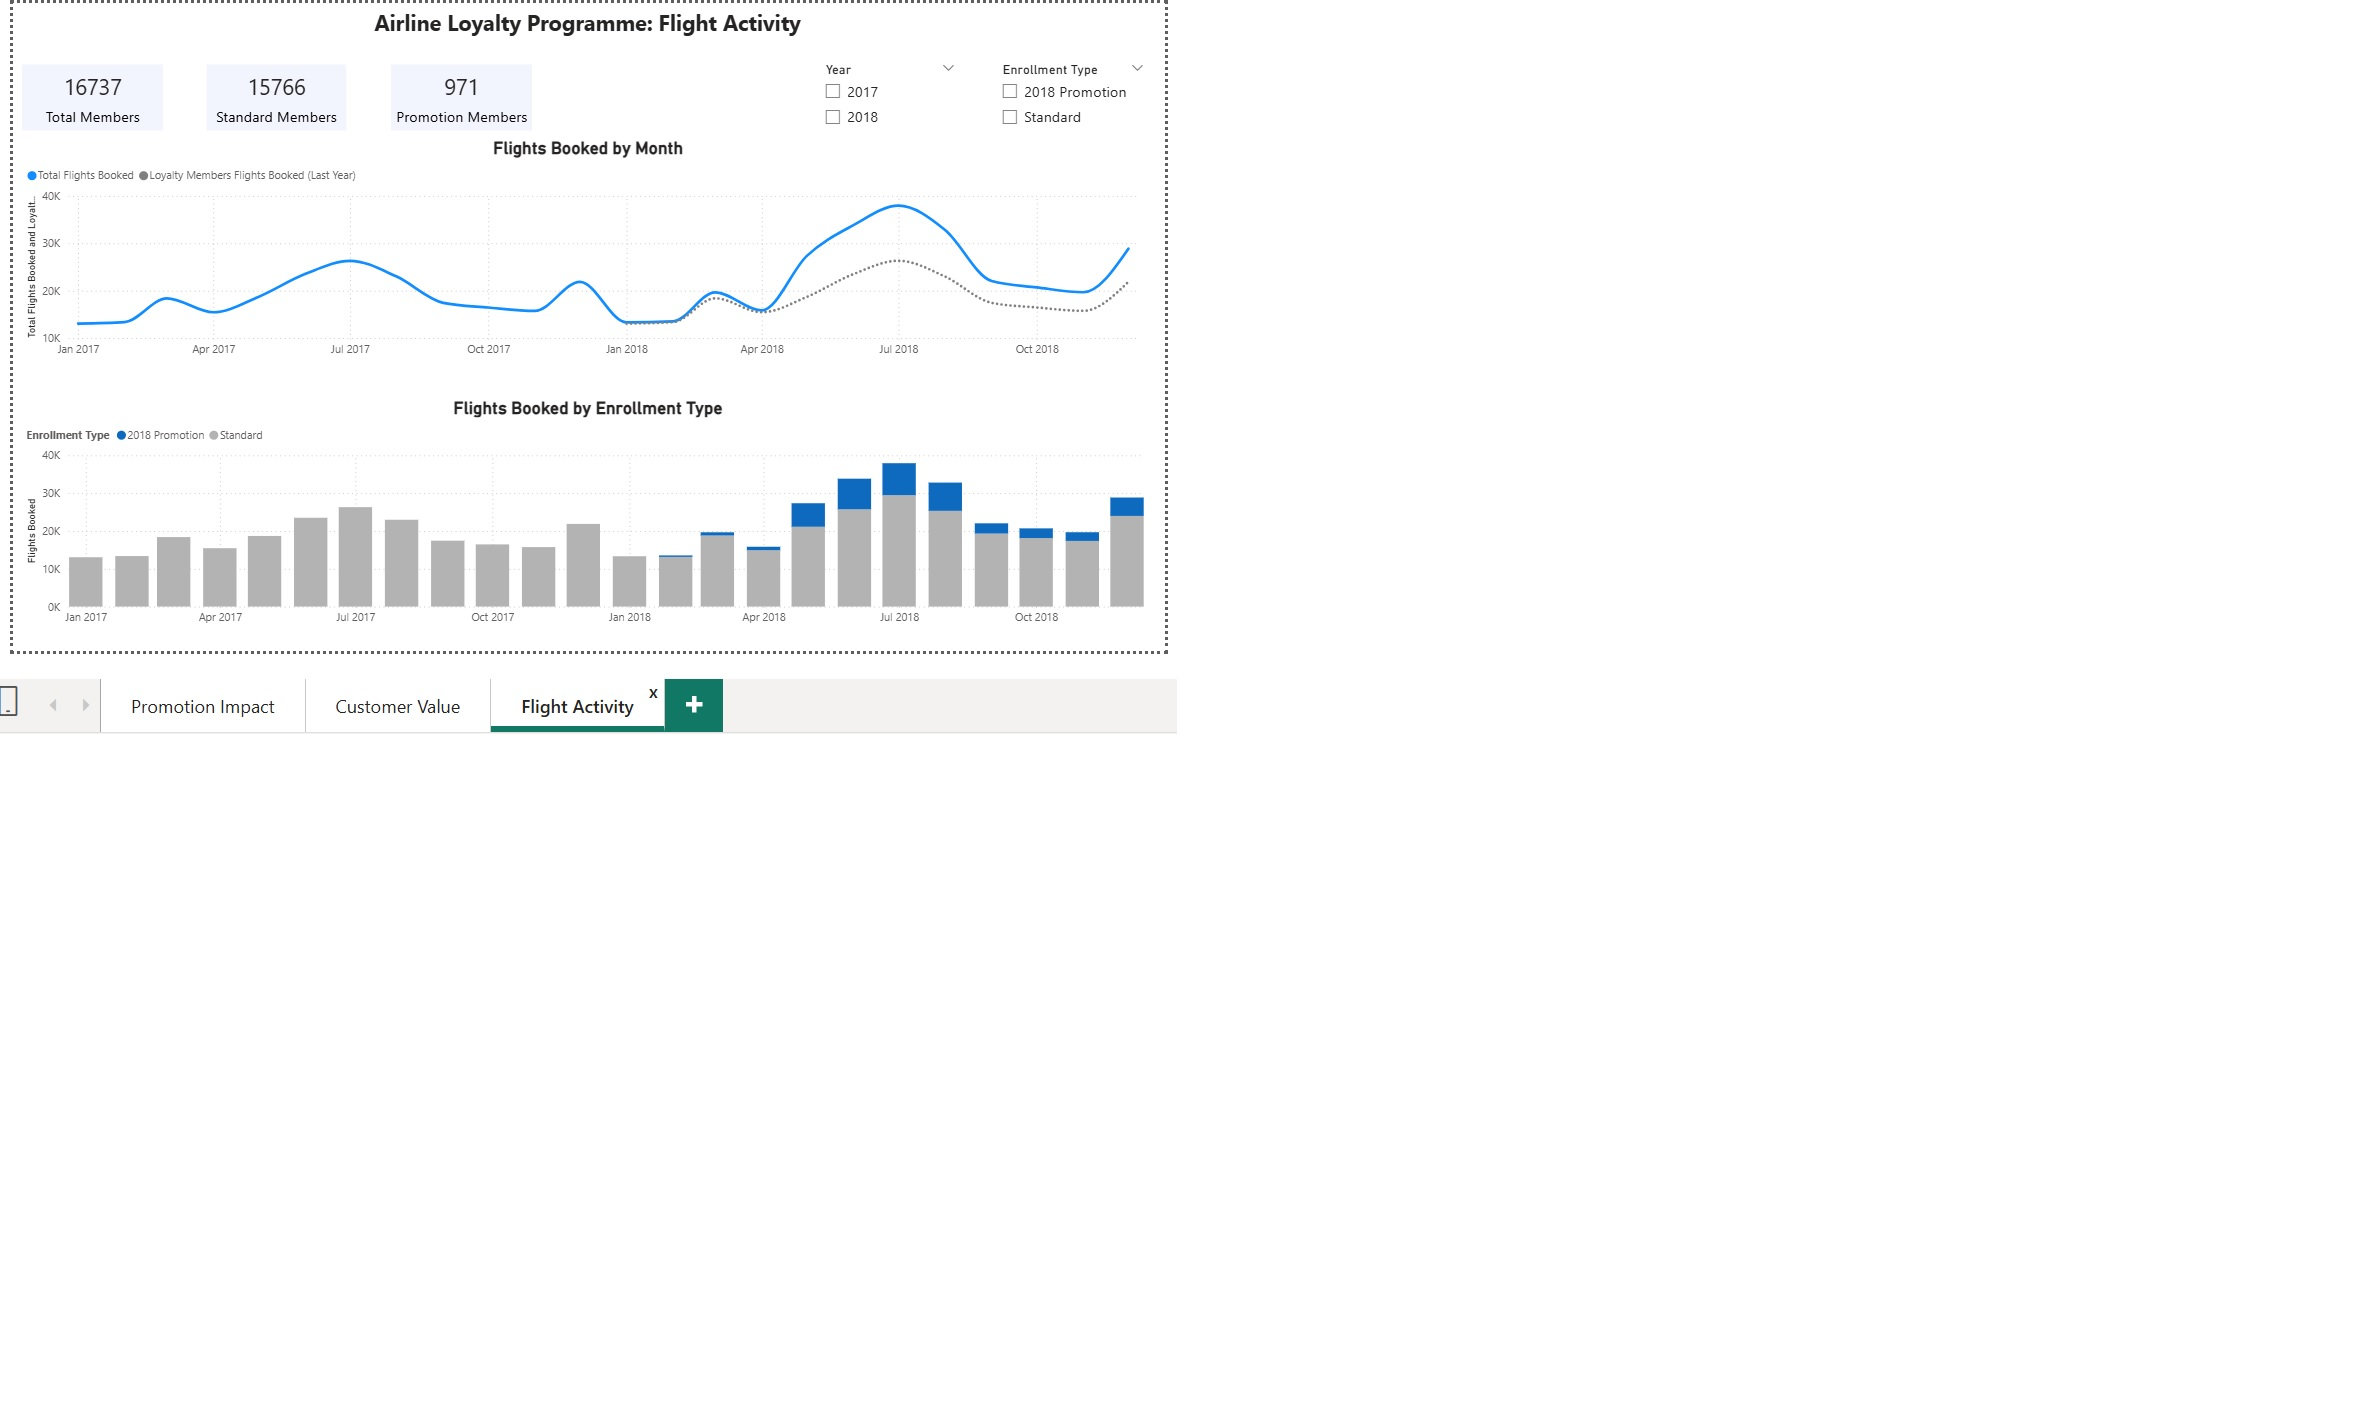

The dashboard page shown, as its layout file describes it:
{"tool":"powerbi","page":{"name":"Flight Activity ","canvas":[1280,720],"ordinal":2},"visuals":[{"type":"lineChart","title":"Flights Booked by Month","fields":{"Y":["Measure Table.Total Flights Booked","Measure Table.Loyalty Members Flights Booked (Last Year)"],"Category":["Calender.Start of Month.Variation.Date Hierarchy.Year"]},"box":[10,150,1258,252],"z":0},{"type":"columnChart","title":"Flights Booked by Enrollment Type","fields":{"Y":["Measure Table.Total Flights Booked"],"Category":["Calender.Start of Month.Variation.Date Hierarchy.Year"],"Series":["Customer Loyalty History.Enrollment Type"]},"box":[10,438,1258,262],"z":1000},{"type":"slicer","fields":{"Values":["Customer Loyalty History.Enrollment Type"]},"box":[1086.7,60,181.7,90],"z":2000},{"type":"card","fields":{"Values":["Measure Table.Standard Members"]},"box":[215,68.3,155,73.3],"z":3000,"group":"g1"},{"type":"card","fields":{"Values":["Measure Table.Promotion Members"]},"box":[420,68.3,156.7,73.3],"z":4000,"group":"g1"},{"type":"card","fields":{"Values":["Measure Table.Total Members"]},"box":[10,68.3,156.7,73.3],"z":5000,"group":"g1"},{"type":"slicer","fields":{"Values":["Calender.Date.Variation.Date Hierarchy.Year"]},"box":[890,60,168.3,90],"z":6000},{"type":"textbox","box":[366.7,0,543.3,43.3],"z":6001},{"type":"group","id":"g1","title":"Group 1","box":[10,68.3,566.7,73.3],"z":6002}]}

Visuals, with their boxes on the page's 1280x720 design canvas (x1, y1, x2, y2). These are canvas units, not pixel positions in the 2358x1428 screenshot, which may show the page scaled, cropped or inside an application window:
"Flights Booked by Month" lineChart: pyautogui.locateOnScreen(10, 150, 1268, 402)
"Flights Booked by Enrollment Type" columnChart: pyautogui.locateOnScreen(10, 438, 1268, 700)
slicer - Customer Loyalty History.Enrollment Type: pyautogui.locateOnScreen(1087, 60, 1268, 150)
card - Measure Table.Standard Members: pyautogui.locateOnScreen(215, 68, 370, 142)
card - Measure Table.Promotion Members: pyautogui.locateOnScreen(420, 68, 577, 142)
card - Measure Table.Total Members: pyautogui.locateOnScreen(10, 68, 167, 142)
slicer - Calender.Date.Variation.Date Hierarchy.Year: pyautogui.locateOnScreen(890, 60, 1058, 150)
textbox: pyautogui.locateOnScreen(367, 0, 910, 43)
"Group 1" group: pyautogui.locateOnScreen(10, 68, 577, 142)
